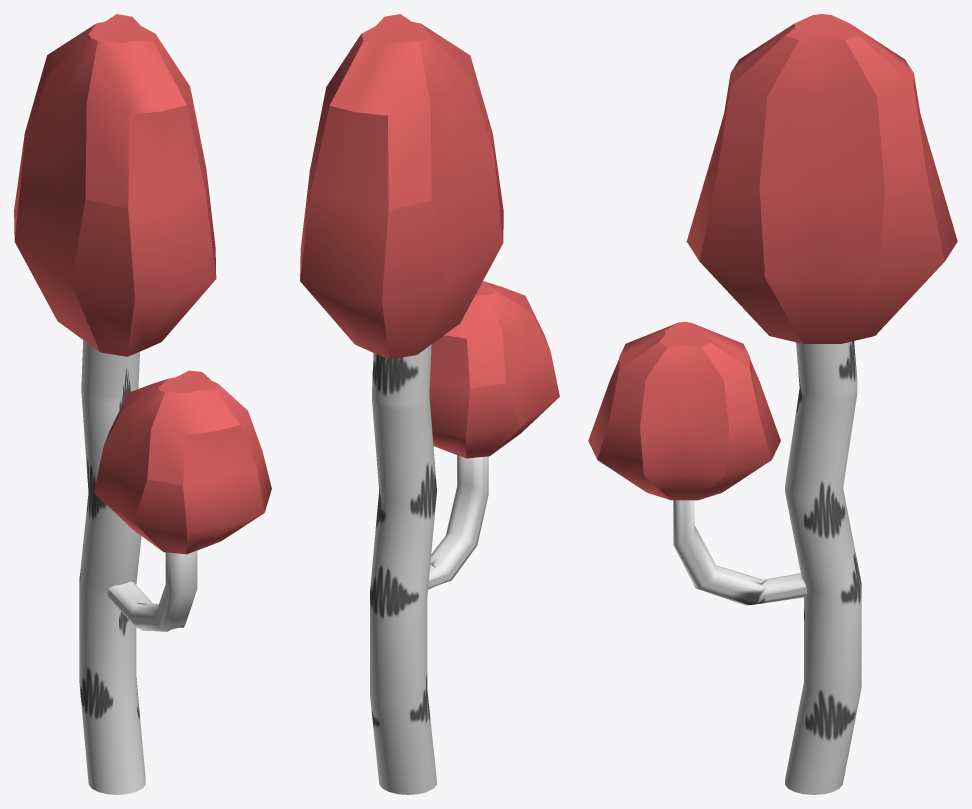
The model's file is Tree01.fbx.
3 renders of one model, left to right at view 1: azimuth 30°, elevation 25°; view 2: azimuth 150°, elevation 25°; view 3: azimuth 270°, elevation 25°, orthographic.
Visible parts, largest first — view 1: Leaves002, Tree002, Leaves003; view 2: Leaves002, Tree002, Leaves003; view 3: Leaves002, Tree002, Leaves003.
Part boxes in pixels (bbox=[...]): Leaves002: bbox=[14, 14, 216, 356]; Tree002: bbox=[79, 340, 197, 794]; Leaves003: bbox=[94, 370, 271, 554]; Leaves002: bbox=[300, 14, 503, 359]; Tree002: bbox=[370, 344, 488, 794]; Leaves003: bbox=[429, 281, 559, 458]; Leaves002: bbox=[686, 14, 957, 343]; Tree002: bbox=[673, 341, 861, 794]; Leaves003: bbox=[588, 321, 780, 500].
Size of the model in its own units: 27.71 by 137 by 60.5.
Materials: 2 (2 with a texture image).
